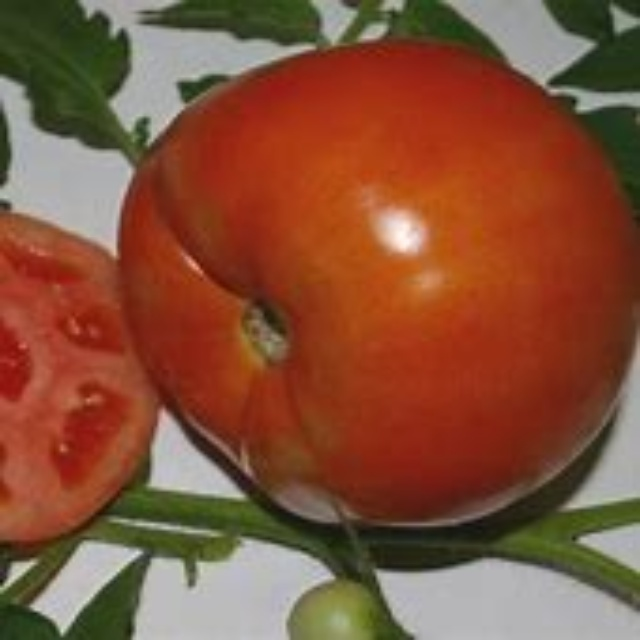tomato: (115, 32, 639, 514)
